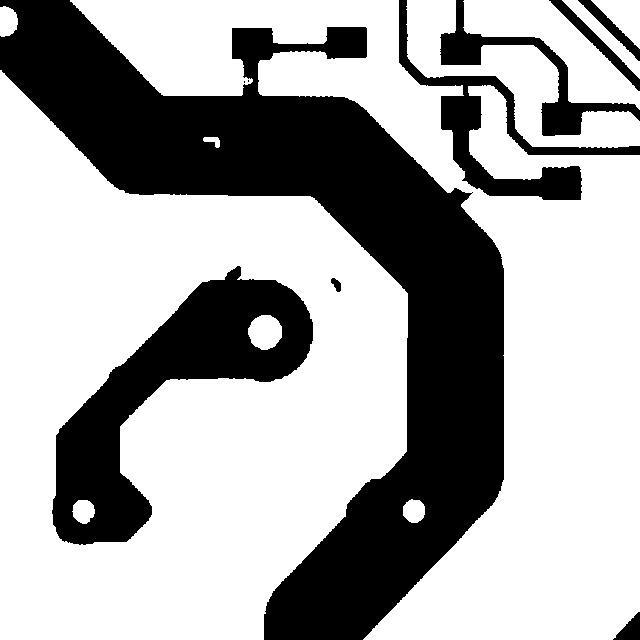copper: (321, 268, 350, 301)
mousebite: (230, 67, 262, 94)
open: (436, 170, 486, 202)
pin-hole: (193, 127, 229, 157)
short: (453, 71, 479, 113)
spur: (215, 256, 250, 290)
